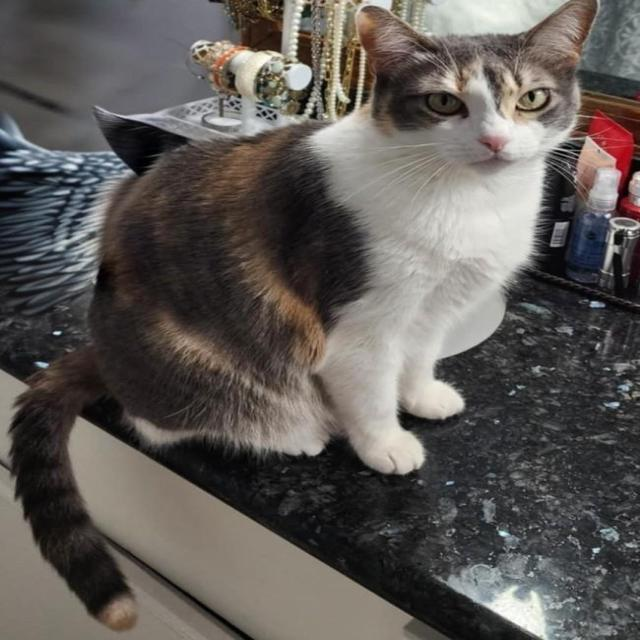calico_cat: (342, 2, 600, 191)
